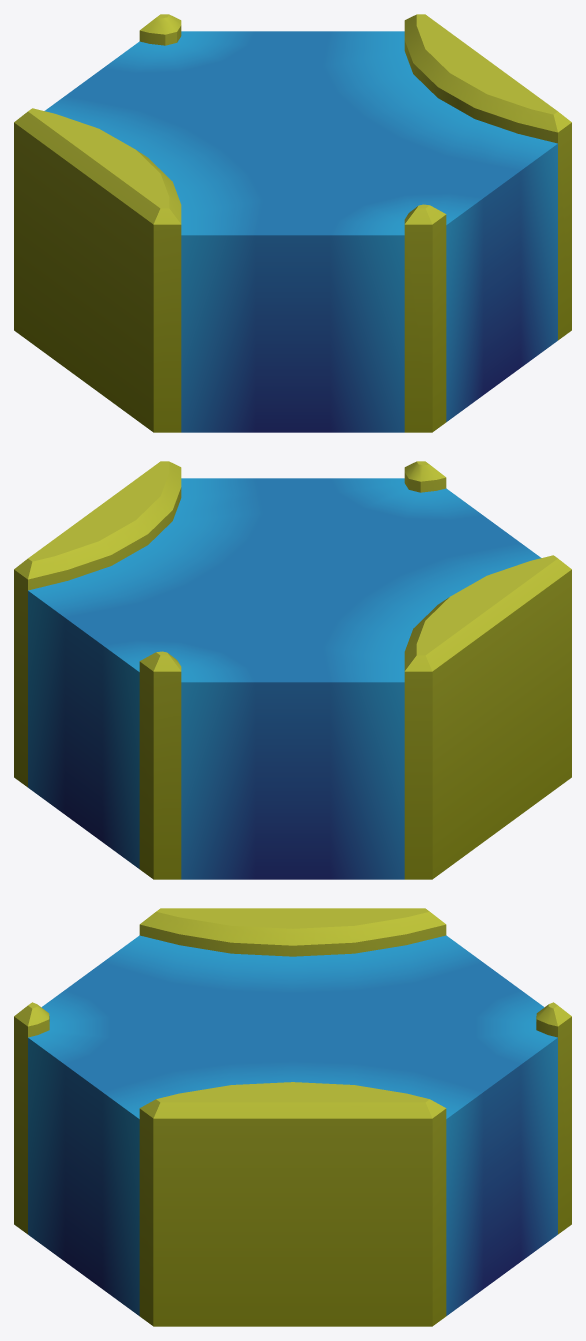
The model's file is hex_river_I.glb.
3 renders of one model, top to bottom at view 1: azimuth 30°, elevation 25°; view 2: azimuth 150°, elevation 25°; view 3: azimuth 270°, elevation 25°, orthographic.
Parts seen in each view (by area): view 1: hex_river_I; view 2: hex_river_I; view 3: hex_river_I.
Boxes of the visible parts, x1=… form: hex_river_I: x1=14, y1=14, x2=571, y2=432; hex_river_I: x1=14, y1=461, x2=571, y2=879; hex_river_I: x1=14, y1=908, x2=571, y2=1326.
Bounding box in the file's own units: 2 × 1 × 2.31.
Materials: 1 (1 with a texture image).
